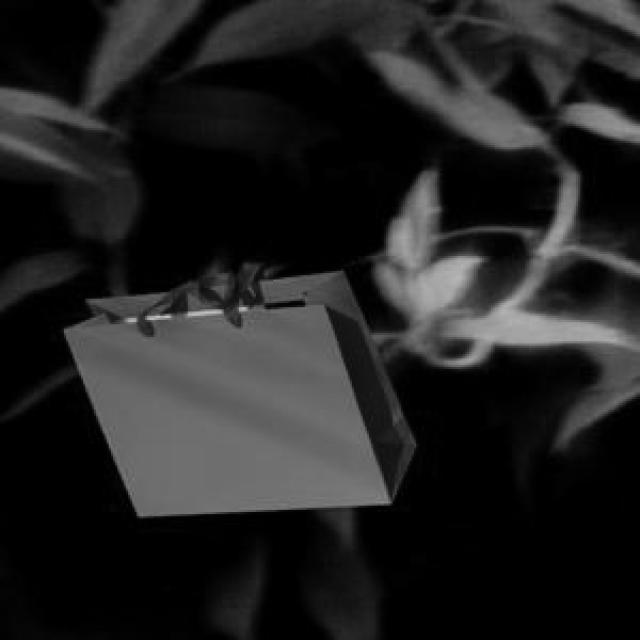paper: (60, 258, 412, 512)
